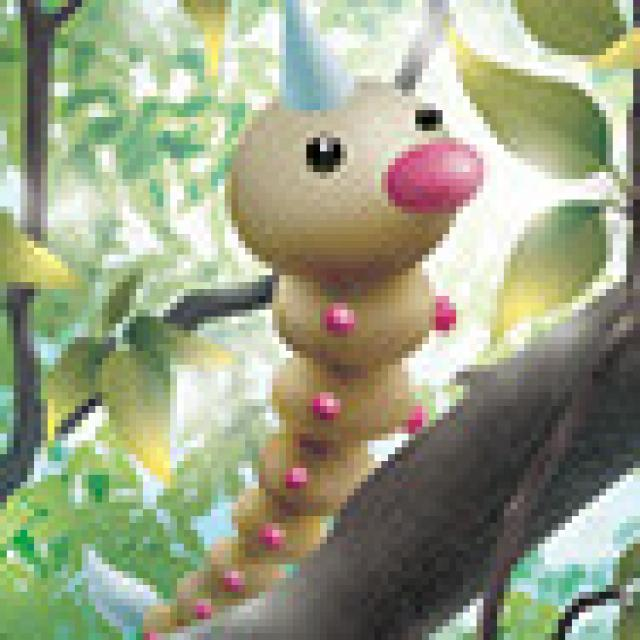Weedle: (134, 0, 479, 640)
